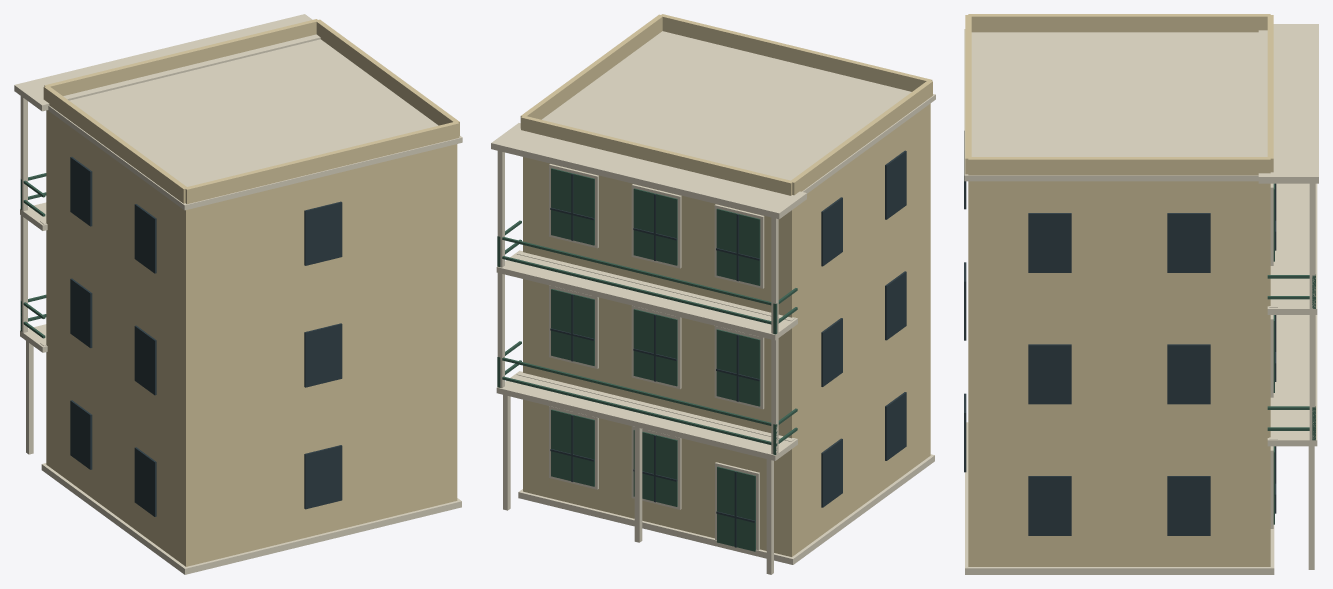
Rendered from KOL_T3_OLD_03.fbx.
3 renders of one model, left to right at view 1: azimuth 30°, elevation 25°; view 2: azimuth 150°, elevation 25°; view 3: azimuth 270°, elevation 25°, orthographic. The views are drawn at different scales.
Visible parts, largest first — view 1: KOL_T3_OLD_03__Body, KOL_T3_OLD_03__Trim, KOL_T3_OLD_03__Dark, KOL_T3_OLD_03__Accent; view 2: KOL_T3_OLD_03__Body, KOL_T3_OLD_03__Trim, KOL_T3_OLD_03__Accent, KOL_T3_OLD_03__Dark; view 3: KOL_T3_OLD_03__Body, KOL_T3_OLD_03__Trim, KOL_T3_OLD_03__Dark, KOL_T3_OLD_03__Accent.
Boxes of the visible parts, x1,y1,x2,y2 form: KOL_T3_OLD_03__Body: [43, 19, 459, 566]; KOL_T3_OLD_03__Trim: [14, 14, 462, 574]; KOL_T3_OLD_03__Dark: [70, 157, 342, 516]; KOL_T3_OLD_03__Accent: [20, 173, 46, 338]; KOL_T3_OLD_03__Body: [520, 14, 932, 556]; KOL_T3_OLD_03__Trim: [491, 31, 935, 574]; KOL_T3_OLD_03__Accent: [497, 168, 797, 551]; KOL_T3_OLD_03__Dark: [550, 150, 906, 547]; KOL_T3_OLD_03__Body: [965, 14, 1273, 566]; KOL_T3_OLD_03__Trim: [964, 24, 1318, 574]; KOL_T3_OLD_03__Dark: [964, 131, 1276, 535]; KOL_T3_OLD_03__Accent: [1267, 183, 1315, 524].
Bounding box in the file's own units: 30 × 37.9 × 29.37.
